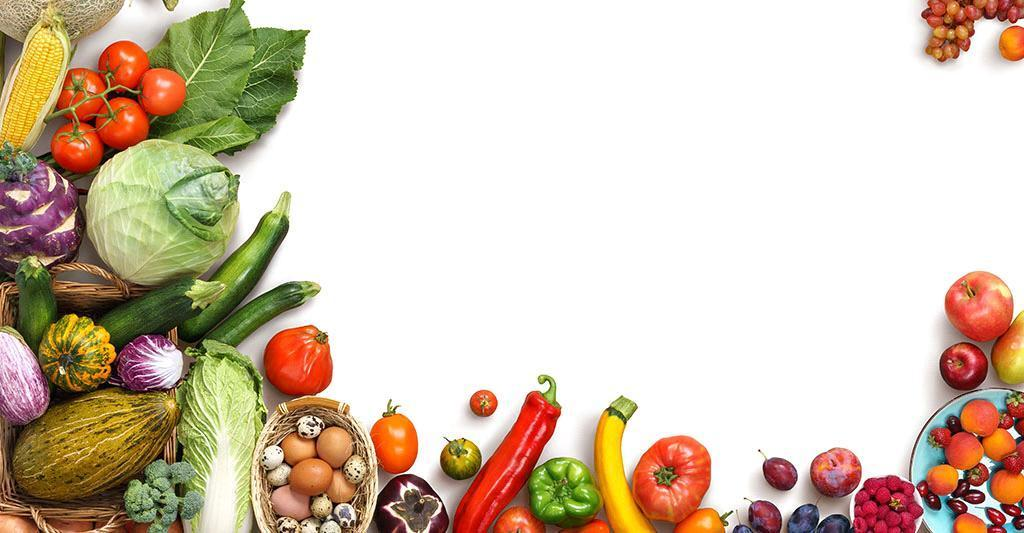apple: (944, 273, 1015, 343), (811, 449, 861, 500), (940, 341, 988, 393), (760, 454, 798, 492)
